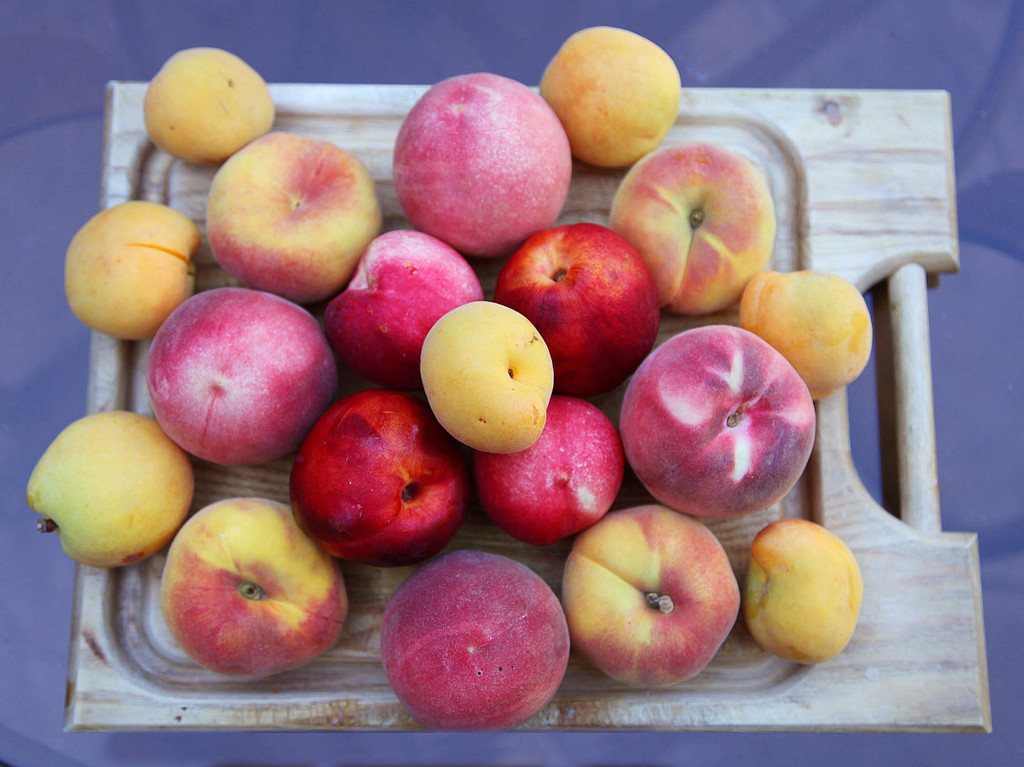Apple: (22, 23, 878, 731), (144, 281, 345, 466)
